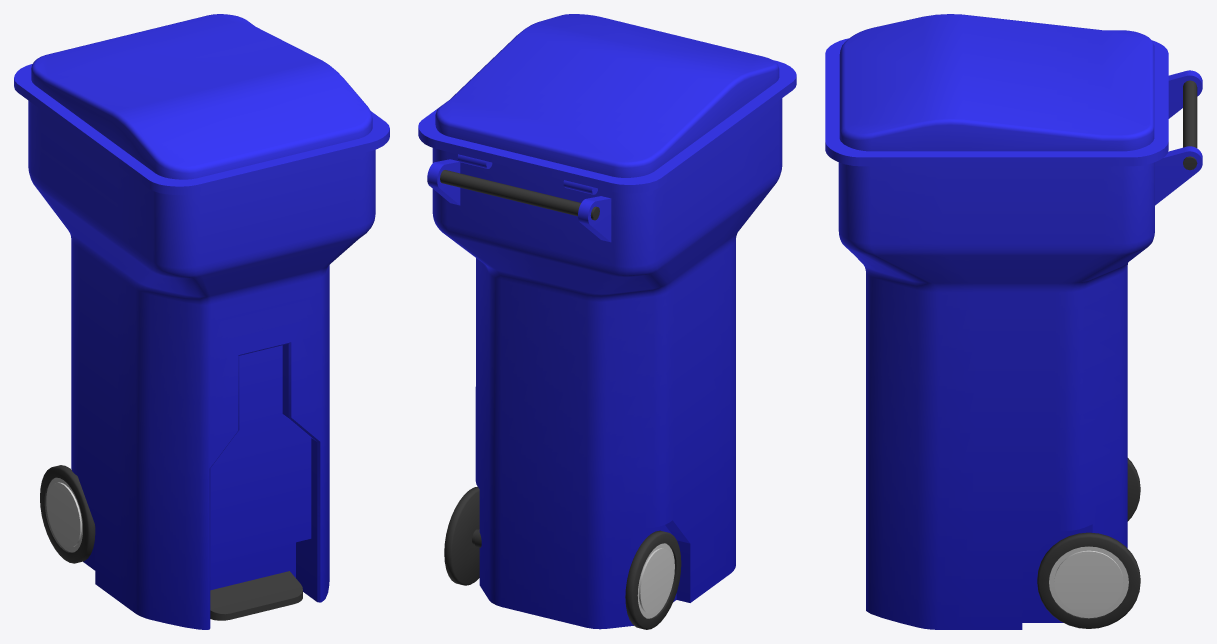
Rendered from garbage_collector_blue_medium.glb.
3 views of the same model, side by side, from view 1: azimuth 30°, elevation 25°; view 2: azimuth 150°, elevation 25°; view 3: azimuth 270°, elevation 25° (orthographic). The views are drawn at different scales.
Visible parts, largest first — view 1: garbage_collector_blue_medium; view 2: garbage_collector_blue_medium; view 3: garbage_collector_blue_medium.
Boxes of the visible parts, box(x1,y1,x2,y2) form: garbage_collector_blue_medium: box(14, 14, 389, 629); garbage_collector_blue_medium: box(418, 14, 796, 629); garbage_collector_blue_medium: box(825, 14, 1202, 629).
Size of the model in its own units: 0.559 by 1.12 by 0.7417.
1 material, 1 textured.
